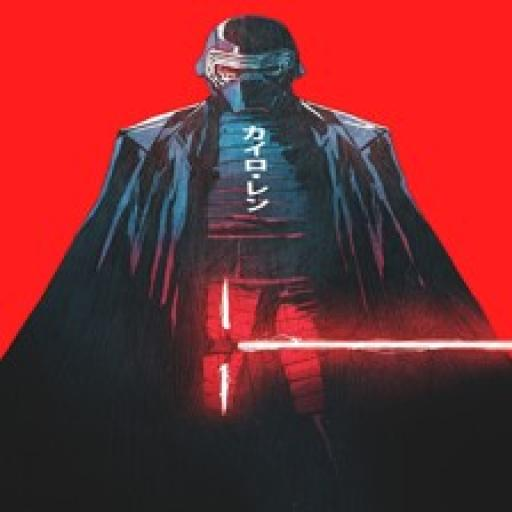lightsaber: (180, 280, 512, 408)
